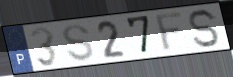2: (96, 19, 127, 59)
3: (30, 25, 60, 68)
7: (124, 15, 152, 57)
F: (154, 10, 187, 55)
S: (187, 8, 222, 50), (62, 23, 96, 63)
